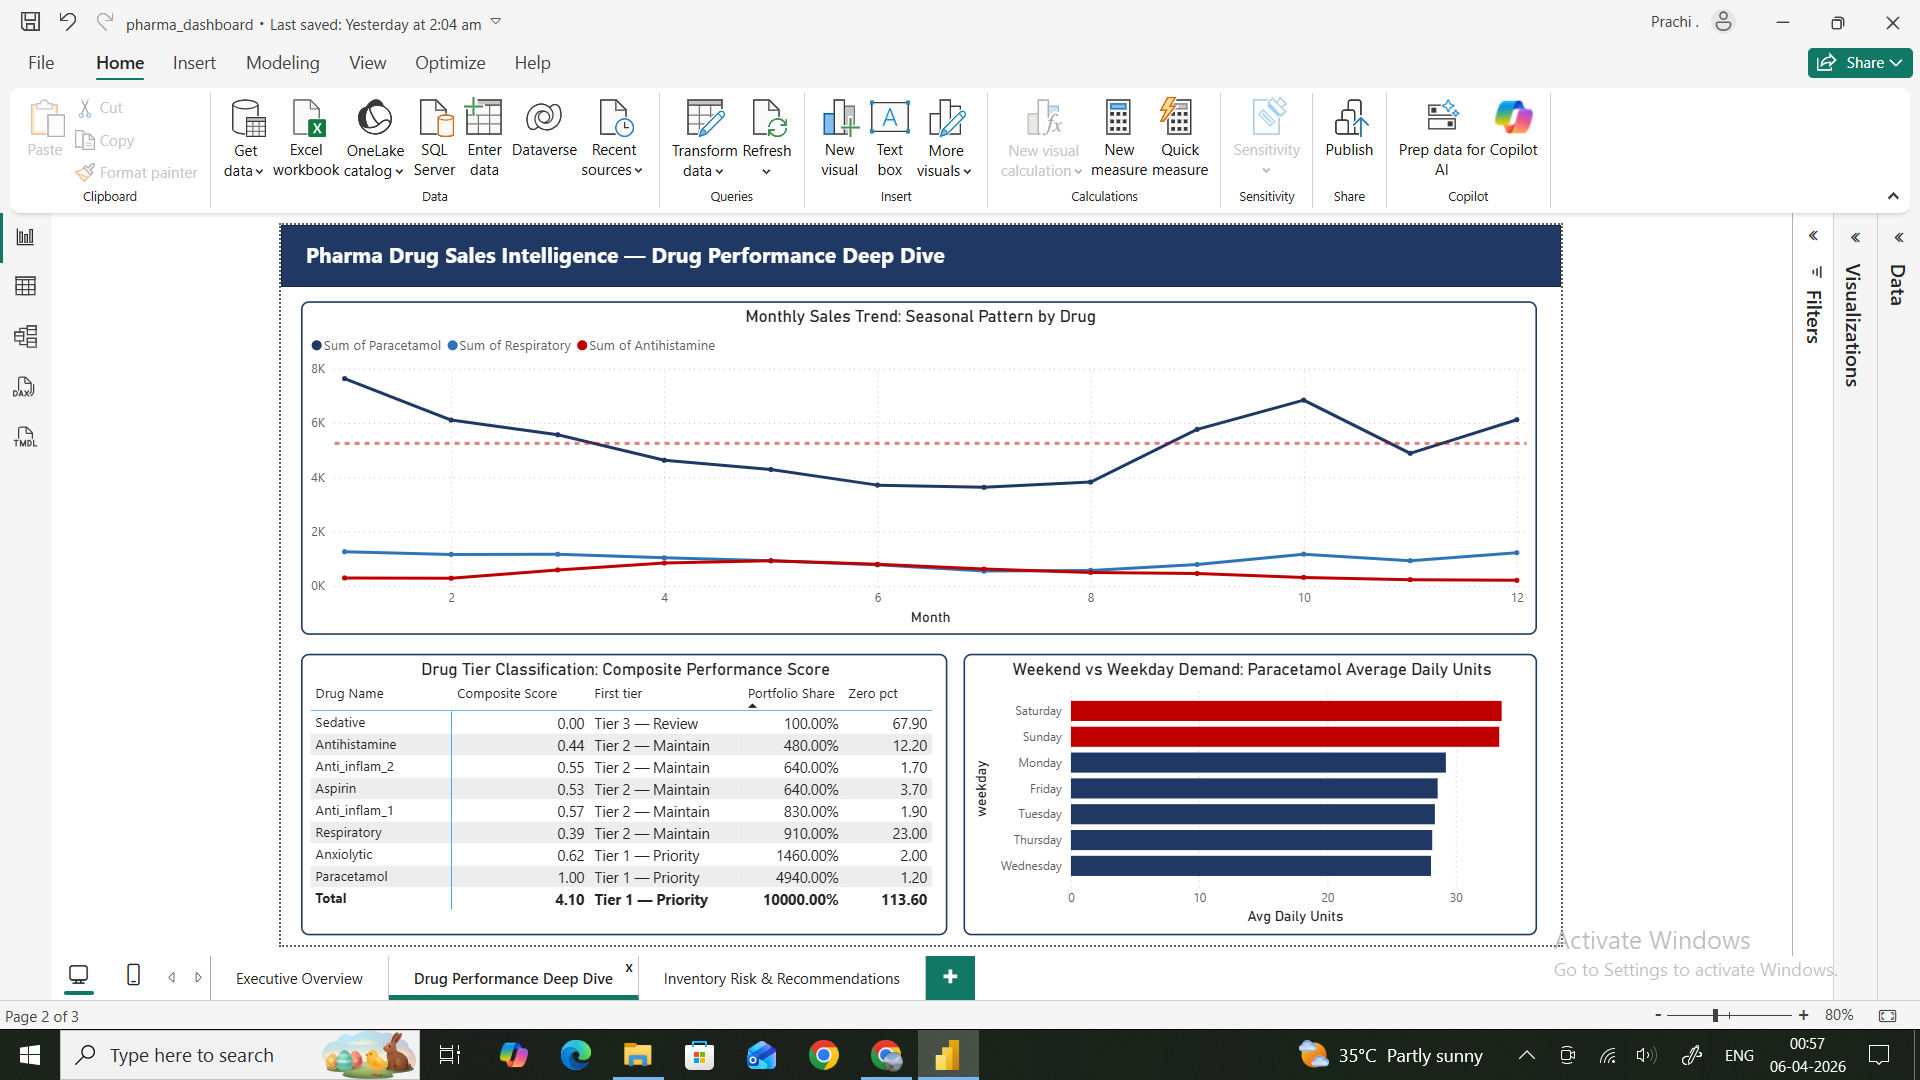

What the dashboard file says about the page in this screenshot:
{"tool":"powerbi","page":{"name":"Drug Performance Deep Dive","canvas":[1280,720],"ordinal":1},"visuals":[{"type":"shape","box":[0,0,1280,62],"z":0},{"type":"textbox","box":[20,10,1236.2,40],"z":1000},{"type":"lineChart","title":"Monthly Sales Trend: Seasonal Pattern by Drug","fields":{"Category":["monthly_sales.Month"],"Y":["Sum(monthly_sales.analgesic_paracetamol)","Sum(monthly_sales.respiratory)","Sum(monthly_sales.antihistamine)"]},"box":[20,76.2,1236.2,333.8],"z":2000},{"type":"barChart","title":"Weekend vs Weekday Demand: Paracetamol Average Daily Units","fields":{"Category":["weekly_sales.weekday"],"Y":["Sum(weekly_sales.analgesic_paracetamol)"]},"box":[682.5,428.8,573.8,281.2],"z":3000},{"type":"pivotTable","title":"Drug Tier Classification: Composite Performance Score","fields":{"Rows":["drug_profile.drug_name"],"Values":["Sum(drug_profile.composite_score)","Min(drug_profile.tier)","Sum(drug_profile.portfolio_share)","Sum(drug_profile.zero_pct)"]},"box":[20,428.8,646.2,281.2],"z":4000}]}

Visuals, with their boxes on the page's 1280x720 design canvas (x1, y1, x2, y2). These are canvas units, not pixel positions in the 1920x1080 screenshot, which may show the page scaled, cropped or inside an application window:
shape: (left=0, top=0, right=1280, bottom=62)
textbox: (left=20, top=10, right=1256, bottom=50)
"Monthly Sales Trend: Seasonal Pattern by Drug" lineChart: (left=20, top=76, right=1256, bottom=410)
"Weekend vs Weekday Demand: Paracetamol Average Daily Units" barChart: (left=682, top=429, right=1256, bottom=710)
"Drug Tier Classification: Composite Performance Score" pivotTable: (left=20, top=429, right=666, bottom=710)
